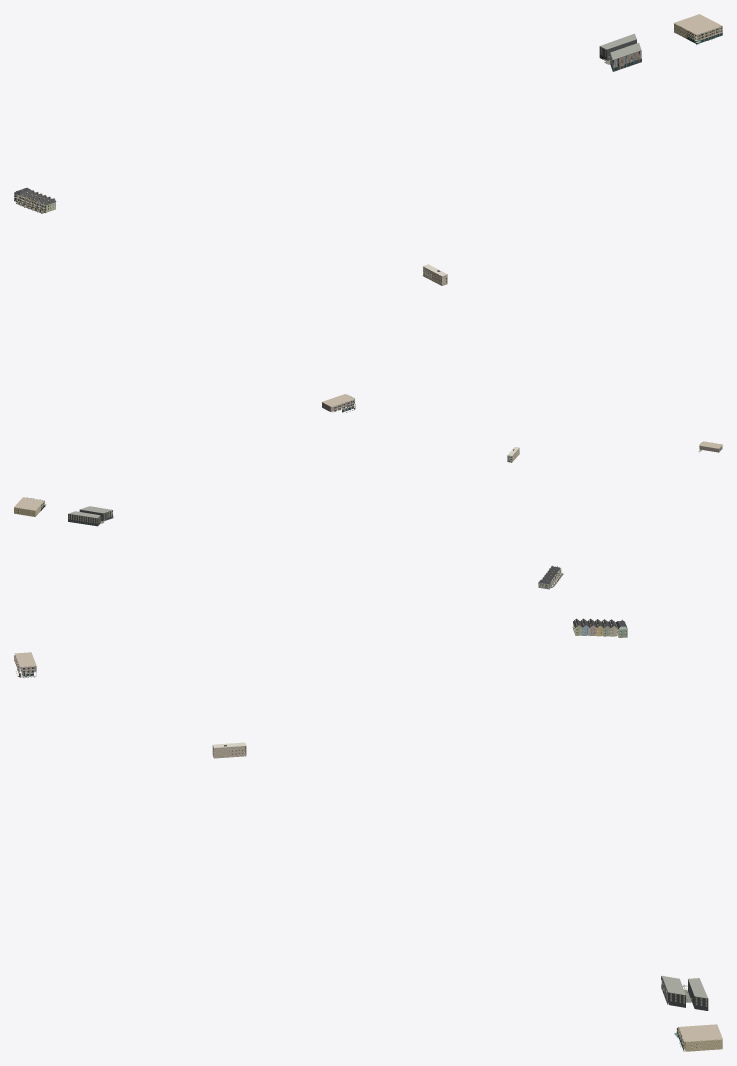
The model's file is heroes.glb.
The picture shows the model from 3 angles, top to bottom: view 1: azimuth 30°, elevation 25°; view 2: azimuth 150°, elevation 25°; view 3: azimuth 270°, elevation 25°; orthographic projection. The views are drawn at different scales.
Parts seen in each view (by area): view 1: Absinthe Hayes / aged oyster wood; view 2: 450 Hayes a Mano / 450 graphite metal, Absinthe Hayes / aged oyster wood, 450 Hayes a Mano / 450 window aluminum; view 3: Absinthe Hayes / aged oyster wood.
Boxes of the visible parts, x1,y1,x2,y2 form: Absinthe Hayes / aged oyster wood: [674, 14, 722, 41]; 450 Hayes a Mano / 450 graphite metal: [68, 508, 112, 526]; Absinthe Hayes / aged oyster wood: [14, 497, 45, 516]; 450 Hayes a Mano / 450 window aluminum: [68, 506, 112, 518]; Absinthe Hayes / aged oyster wood: [676, 1024, 722, 1051].
Bounding box in the file's own units: 917 × 58.13 × 712.
